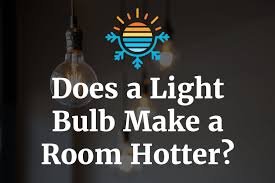bulb: (42, 43, 108, 112)
